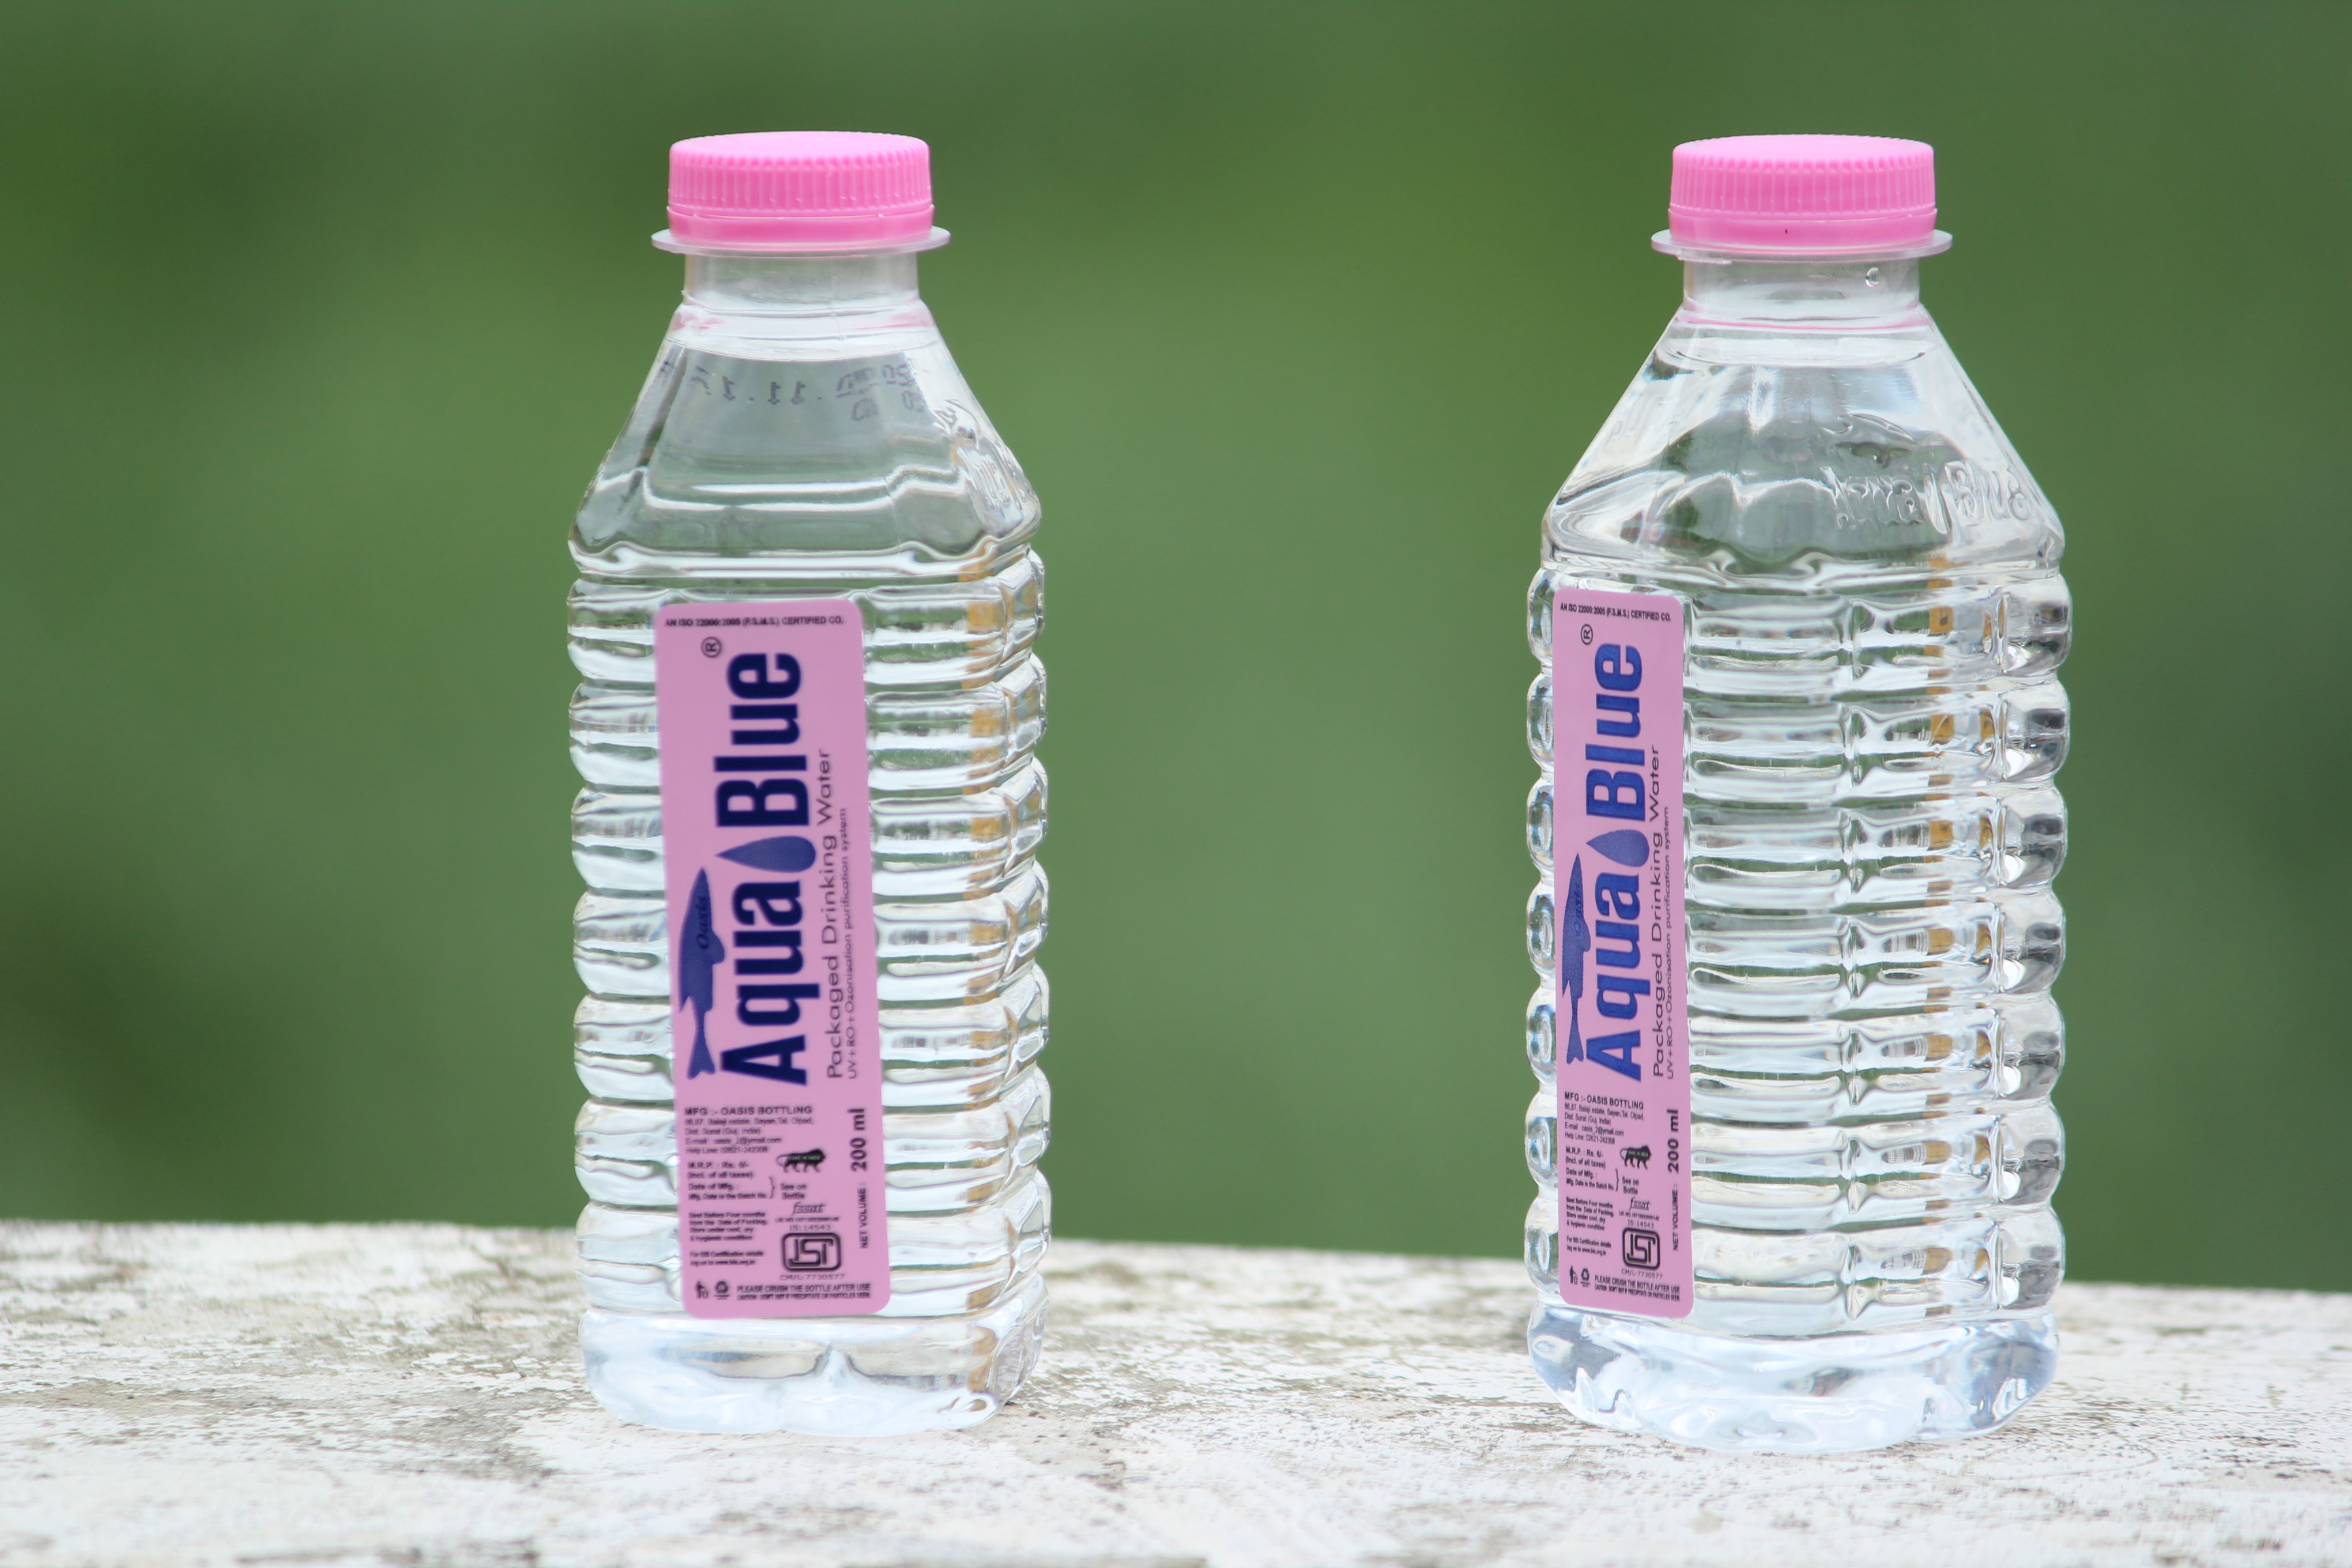Rec_Plastic: (513, 67, 1097, 1465), (1479, 93, 2068, 1435)
